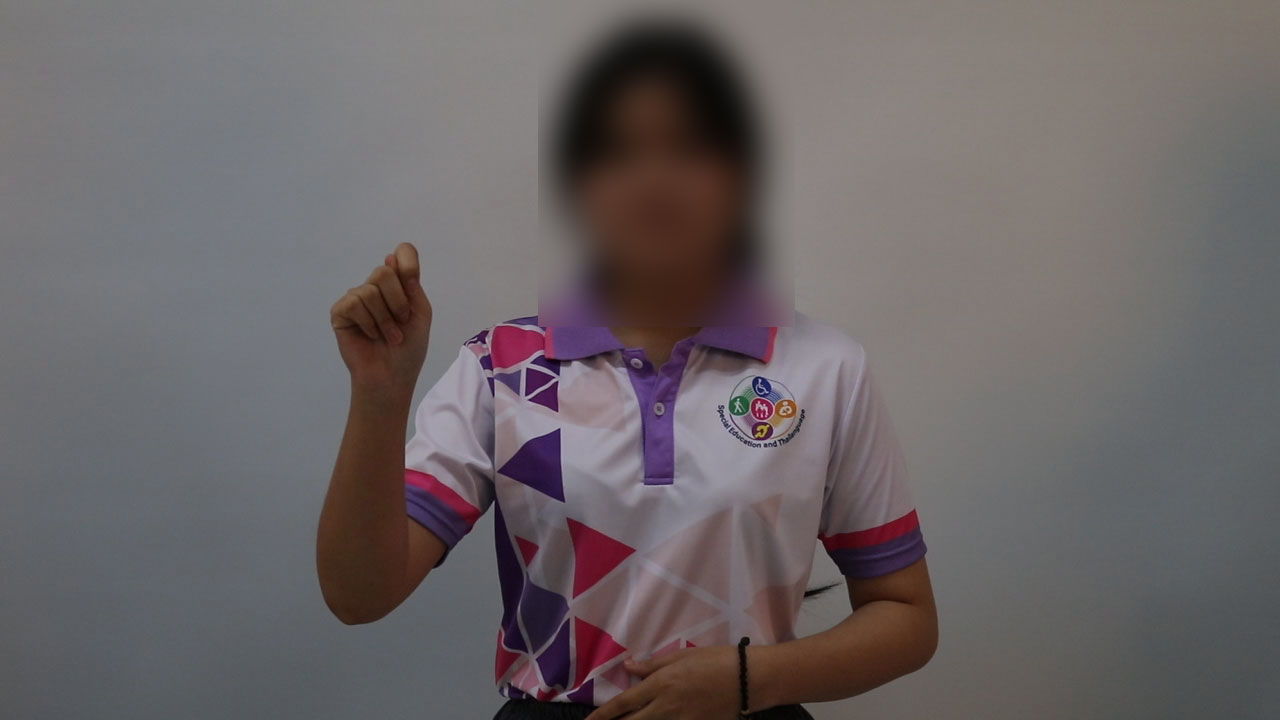tor: (306, 230, 463, 424)
